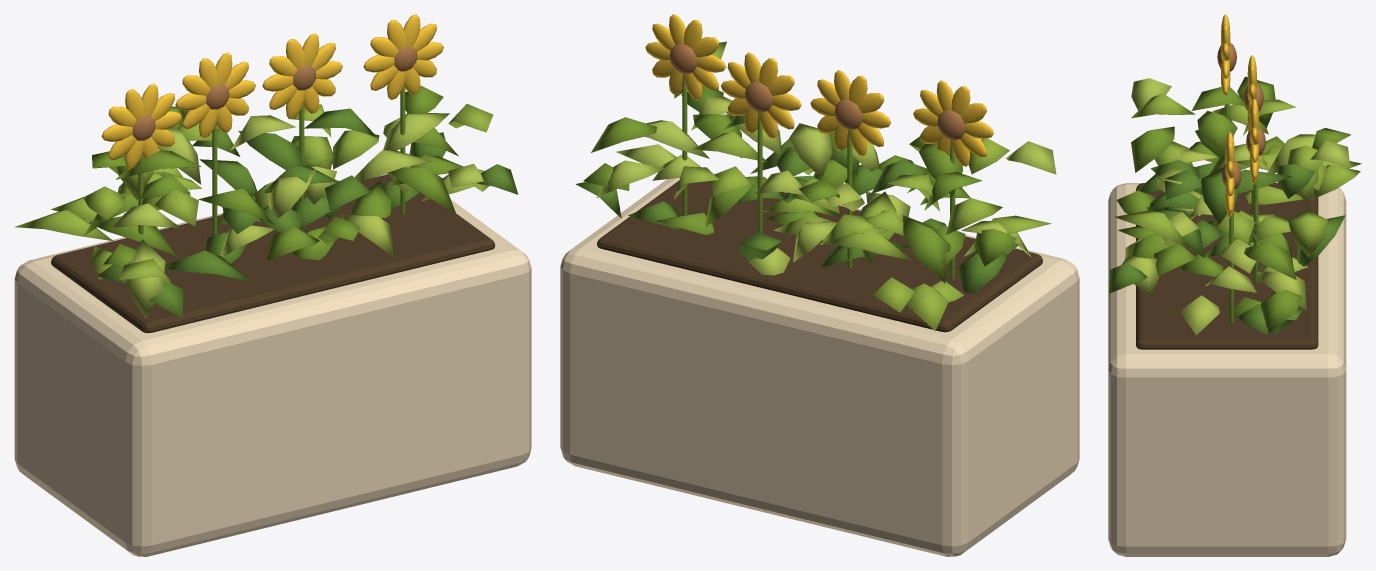
File: Planter.fbx
3 renders of one model, left to right at view 1: azimuth 30°, elevation 25°; view 2: azimuth 150°, elevation 25°; view 3: azimuth 270°, elevation 25°, orthographic. The views are drawn at different scales.
Visible parts, largest first — view 1: Stone planter, Soil inset, Leaf.022, Leaf.016, Leaf.050, Leaf.033, Leaf.023, Leaf.011, Leaf.030, Leaf.062, Leaf.028, Leaf.069 (+26 smaller); view 2: Stone planter, Soil inset, Leaf.004, Leaf.026, Leaf.033, Leaf.055, Leaf.057, Leaf.048, Leaf.065, Leaf.054, Leaf.050, Leaf.060 (+30 smaller); view 3: Stone planter, Soil inset, Leaf.053, Leaf.008, Leaf.056, Leaf.025, Leaf.048, Leaf.044, Leaf.007, Leaf.058, Leaf.054, Leaf.015 (+37 smaller).
Boxes of the visible parts, left/top/right/bottom form: Stone planter: left=14, top=173, right=531, bottom=556; Soil inset: left=51, top=174, right=495, bottom=333; Leaf.022: left=126, top=239, right=165, bottom=318; Leaf.016: left=389, top=167, right=456, bottom=213; Leaf.050: left=383, top=113, right=449, bottom=150; Leaf.033: left=14, top=210, right=112, bottom=240; Leaf.023: left=164, top=250, right=251, bottom=282; Leaf.011: left=238, top=130, right=303, bottom=169; Leaf.030: left=354, top=150, right=431, bottom=181; Leaf.062: left=269, top=169, right=316, bottom=218; Leaf.028: left=87, top=216, right=176, bottom=256; Leaf.069: left=333, top=130, right=379, bottom=169; Stone planter: left=560, top=173, right=1079, bottom=556; Soil inset: left=597, top=180, right=1042, bottom=332; Leaf.004: left=902, top=215, right=950, bottom=283; Leaf.026: left=789, top=123, right=832, bottom=178; Leaf.033: left=906, top=283, right=948, bottom=331; Leaf.055: left=959, top=252, right=1006, bottom=293; Leaf.057: left=821, top=228, right=910, bottom=259; Leaf.048: left=591, top=117, right=656, bottom=152; Leaf.065: left=946, top=198, right=1002, bottom=234; Leaf.054: left=597, top=160, right=665, bottom=198; Leaf.050: left=645, top=120, right=709, bottom=158; Leaf.060: left=974, top=228, right=1016, bottom=266; Stone planter: left=1108, top=183, right=1346, bottom=556; Soil inset: left=1136, top=183, right=1318, bottom=349; Leaf.053: left=1288, top=210, right=1327, bottom=257; Leaf.008: left=1131, top=126, right=1174, bottom=172; Leaf.056: left=1260, top=290, right=1302, bottom=333; Leaf.025: left=1114, top=210, right=1191, bottom=249; Leaf.048: left=1244, top=242, right=1296, bottom=279; Leaf.044: left=1197, top=110, right=1237, bottom=154; Leaf.007: left=1201, top=167, right=1240, bottom=224; Leaf.058: left=1180, top=295, right=1219, bottom=335; Leaf.054: left=1257, top=271, right=1306, bottom=310; Leaf.015: left=1277, top=164, right=1315, bottom=198.
Bounding box in the file's own units: 1.15 × 1.1 × 0.6394.
